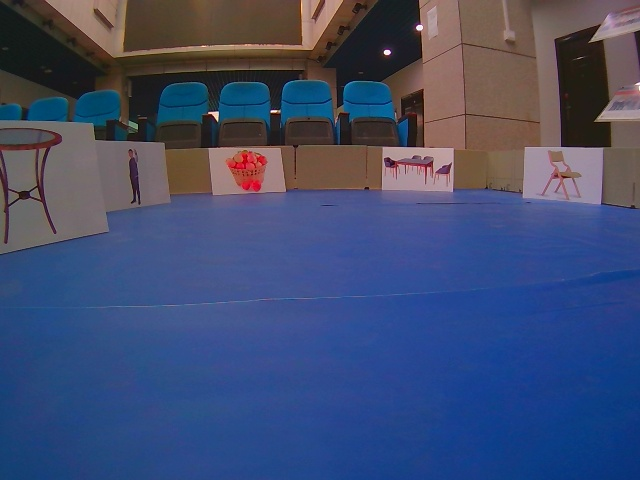food: (207, 146, 287, 196)
person: (96, 140, 172, 208)
table: (521, 146, 605, 209), (380, 145, 455, 195)
